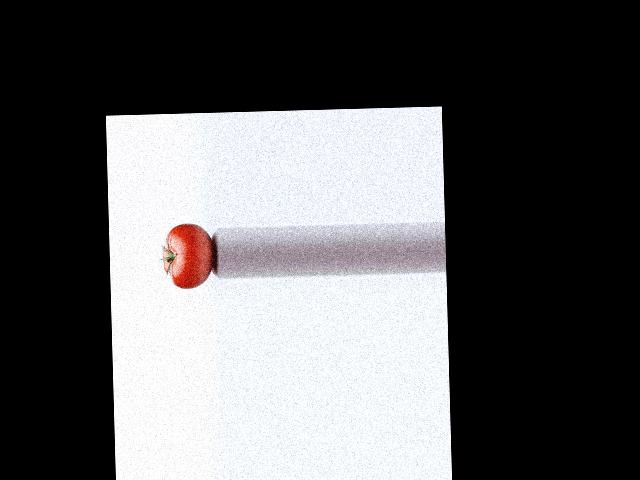tomato: (161, 223, 213, 289)
